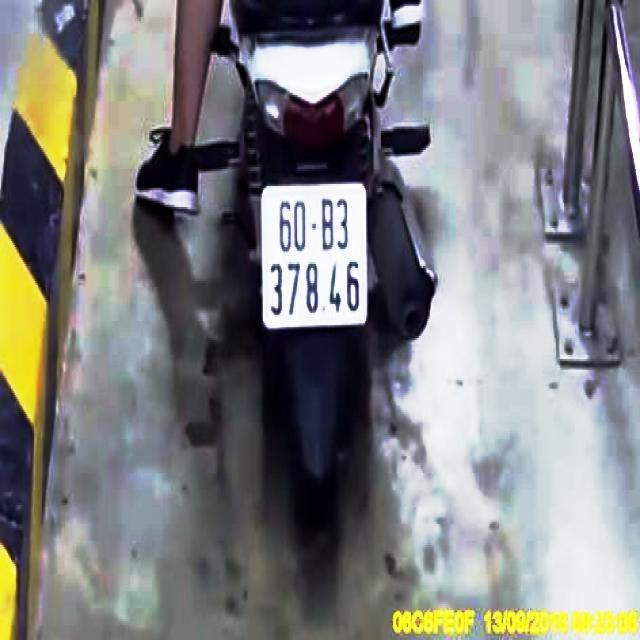license_plate: (262, 187, 369, 322)
